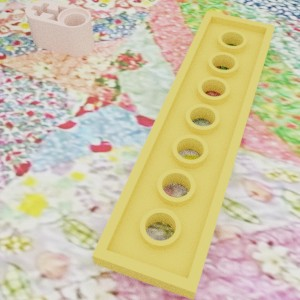lego: (91, 10, 275, 300), (25, 0, 94, 56)
